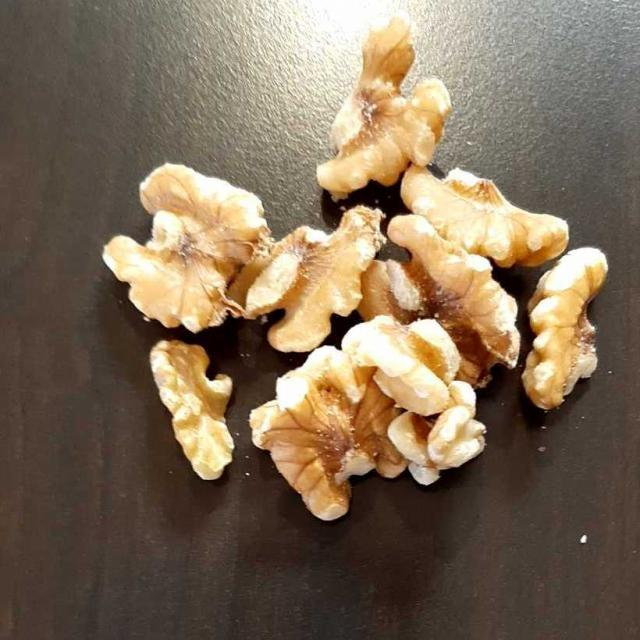walnut: (118, 34, 597, 519)
